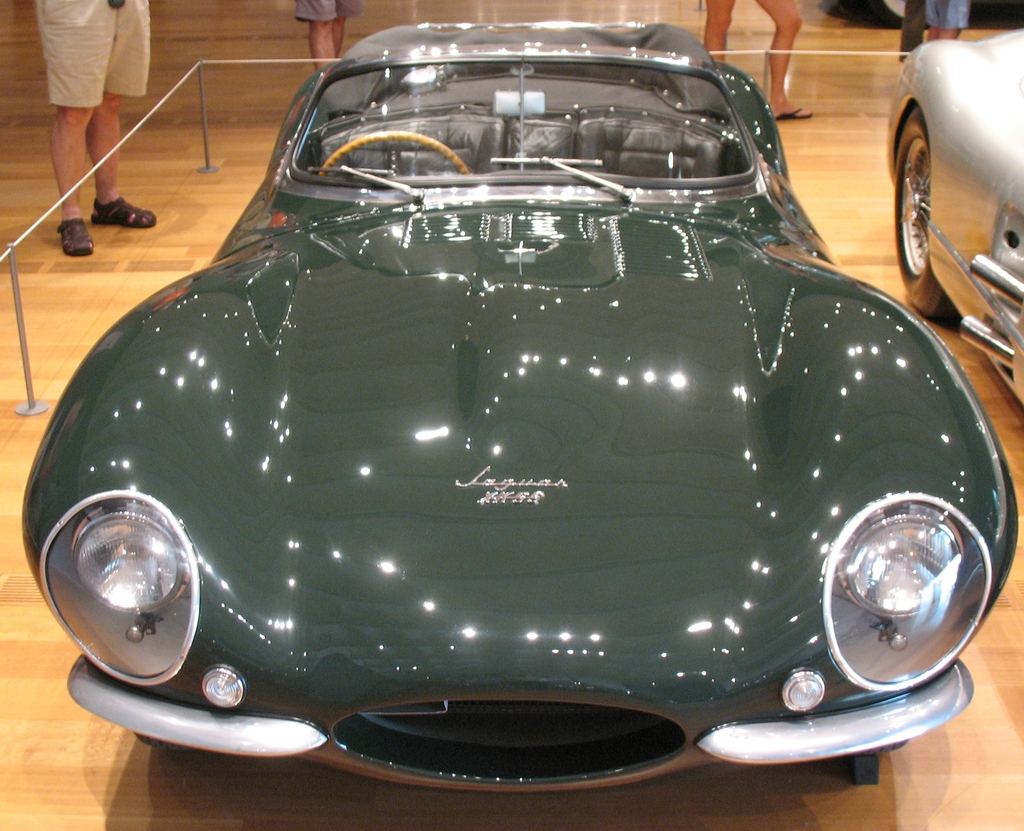Person: (34, 0, 157, 256), (703, 0, 814, 119), (295, 0, 363, 70), (924, 0, 971, 42)
